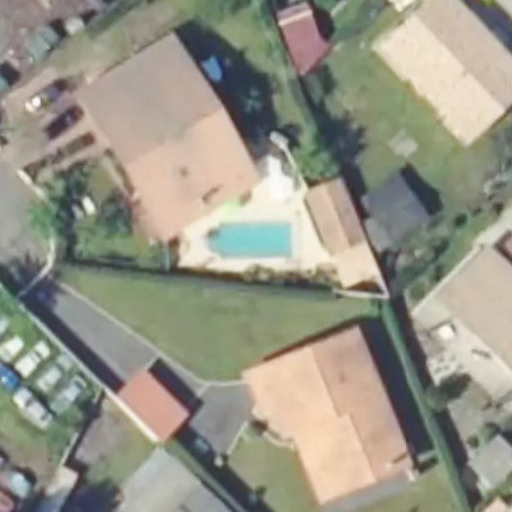pool: (218, 226, 293, 258)
